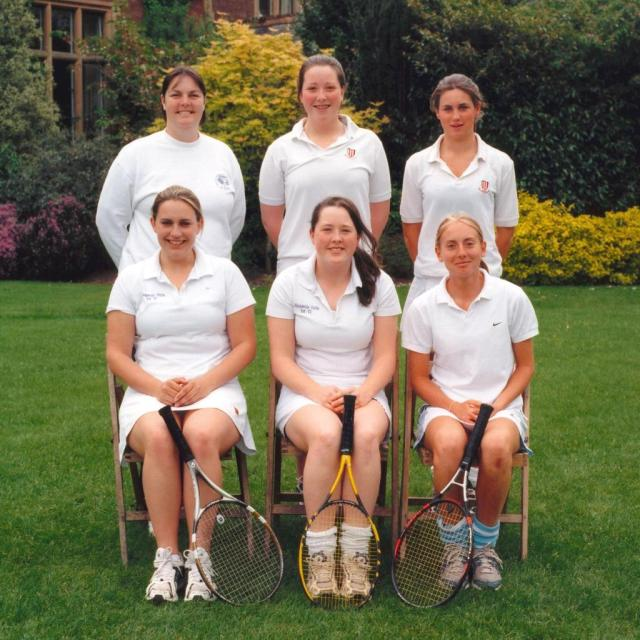Face: (306, 197, 368, 278), (429, 222, 499, 280), (293, 55, 353, 122), (425, 84, 490, 142), (155, 202, 211, 266), (160, 68, 215, 126)
